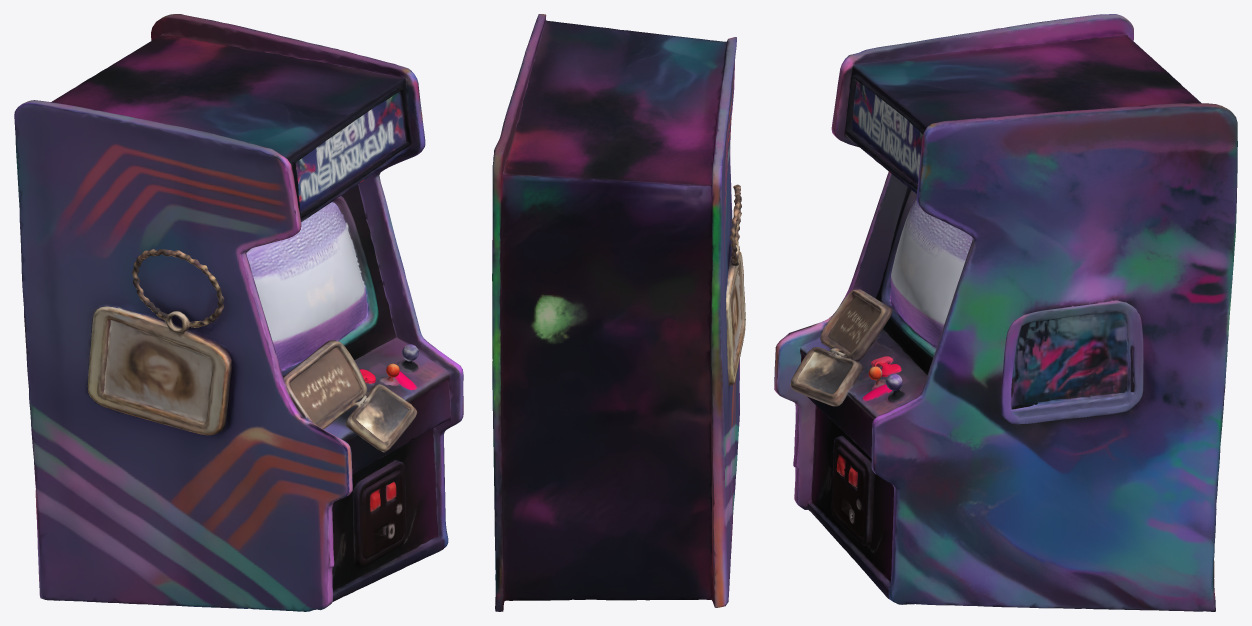
File: midnight-arcade-locket.glb
The picture shows the model from 3 angles, left to right: view 1: azimuth 30°, elevation 25°; view 2: azimuth 150°, elevation 25°; view 3: azimuth 270°, elevation 25°; orthographic projection. The views are drawn at different scales.
Bounding box in the file's own units: 0.5718 × 0.9006 × 0.7123.
Materials: 1 (1 with a texture image).
